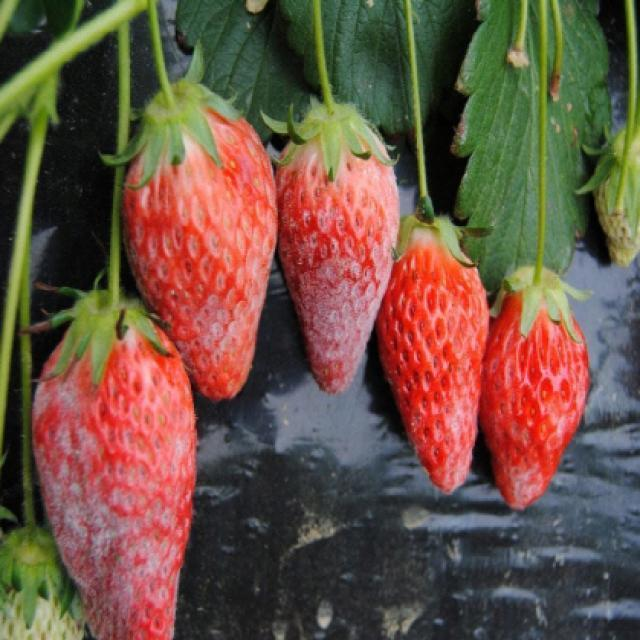Powdery Mildew Fruit: (29, 291, 198, 638), (118, 86, 277, 402), (271, 101, 402, 396), (374, 217, 490, 496), (477, 266, 590, 512)
